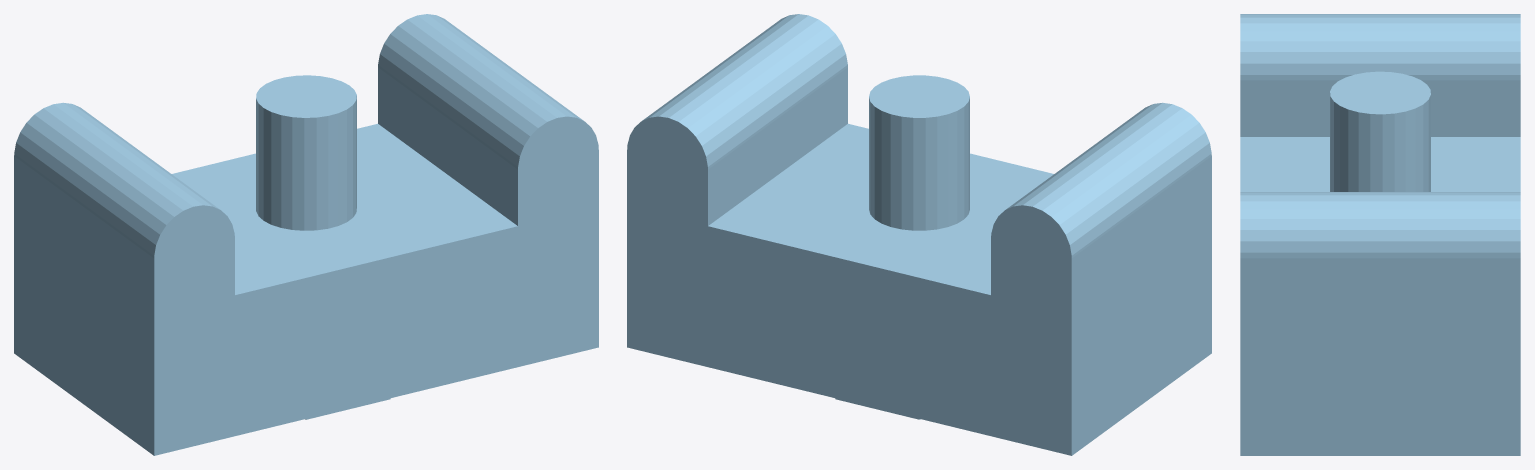
File: BarbourSmith_3D_Printed_T-Nut.glb
The picture shows the model from 3 angles, left to right: view 1: azimuth 30°, elevation 25°; view 2: azimuth 150°, elevation 25°; view 3: azimuth 270°, elevation 25°; orthographic projection.
Parts seen in each view (by area): view 1: part-3, part-5; view 2: part-3, part-5; view 3: part-3, part-5.
Part boxes in pixels (x1=…): part-3: x1=14, y1=14, x2=598, y2=455; part-5: x1=256, y1=75, x2=390, y2=419; part-3: x1=627, y1=14, x2=1211, y2=455; part-5: x1=835, y1=75, x2=969, y2=419; part-3: x1=1240, y1=14, x2=1520, y2=455; part-5: x1=1330, y1=71, x2=1430, y2=191.
Bounding box in the file's own units: 33 × 20 × 18.
